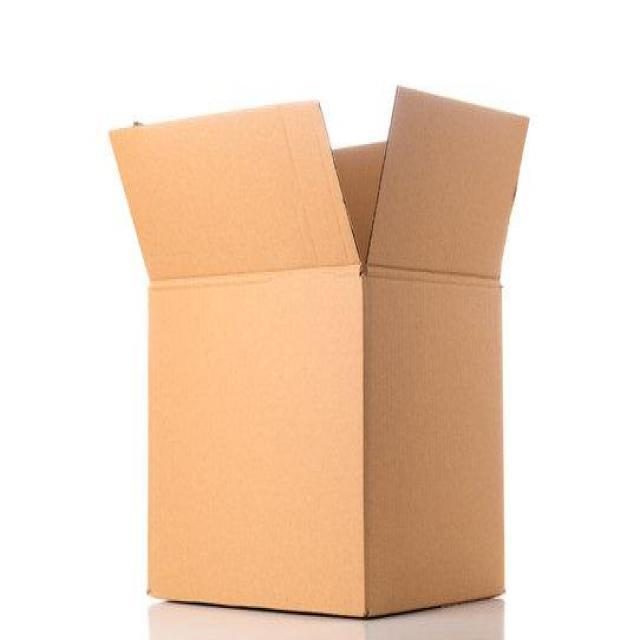box: (107, 77, 532, 620)
